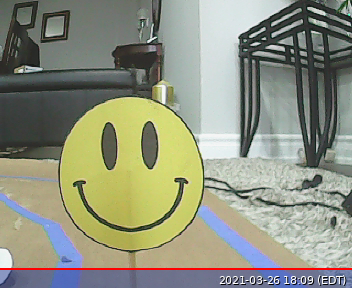Person: (57, 95, 204, 251)
